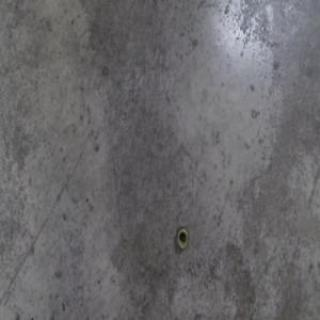Nuttrack_idkeyframe: (176, 225, 188, 251)
